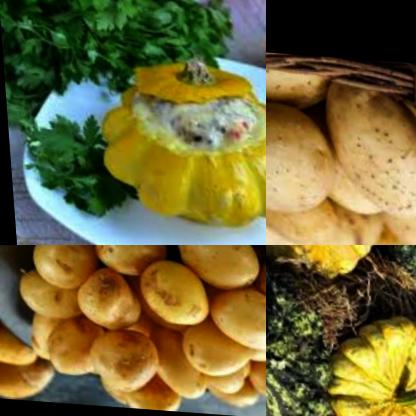potato: (319, 59, 416, 219), (266, 98, 335, 213), (83, 325, 159, 400), (137, 255, 214, 328), (266, 196, 374, 245), (174, 313, 252, 379), (75, 266, 149, 334), (16, 270, 96, 327), (205, 279, 266, 349), (145, 325, 201, 400), (266, 53, 327, 118), (177, 245, 260, 291), (41, 317, 99, 378), (0, 345, 60, 402), (25, 245, 99, 288), (89, 245, 171, 283), (205, 367, 263, 412), (0, 323, 39, 367), (242, 336, 266, 403), (382, 199, 416, 245)
squash-patisson: (90, 92, 266, 229), (266, 245, 341, 416), (319, 289, 416, 416), (110, 32, 263, 102)
